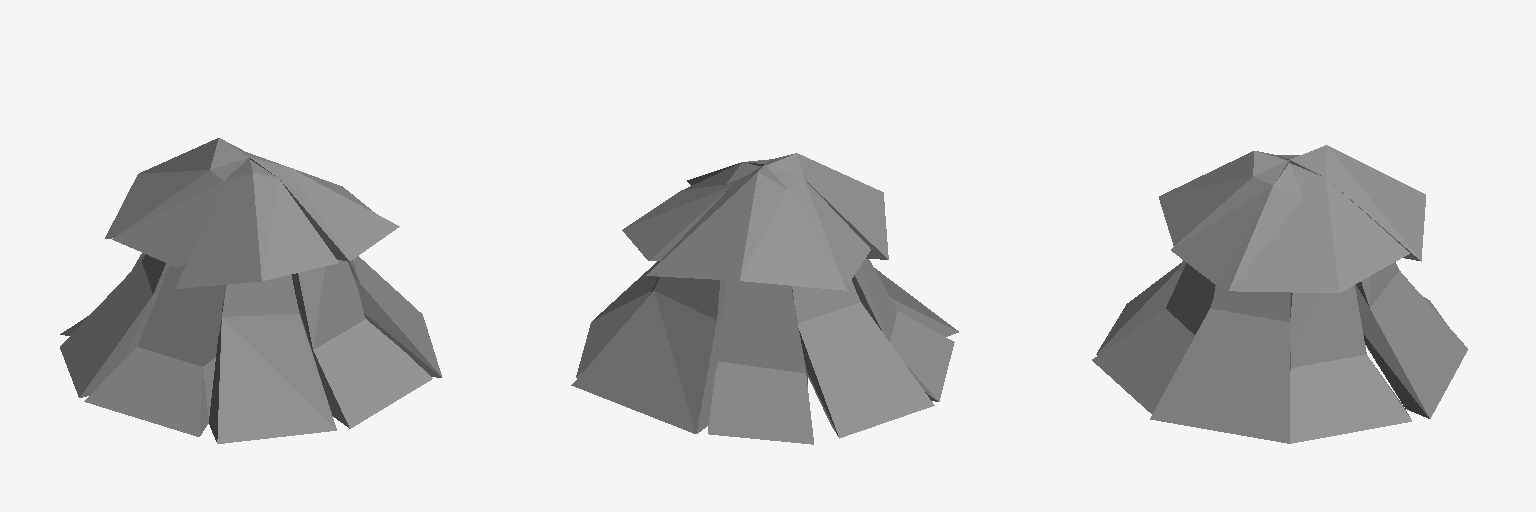
The model's file is haystack_03.obj.
3 renders of one model, left to right at view 1: azimuth 30°, elevation 25°; view 2: azimuth 150°, elevation 25°; view 3: azimuth 270°, elevation 25°, orthographic.
Size of the model in its own units: 1.24 by 0.72 by 1.18.